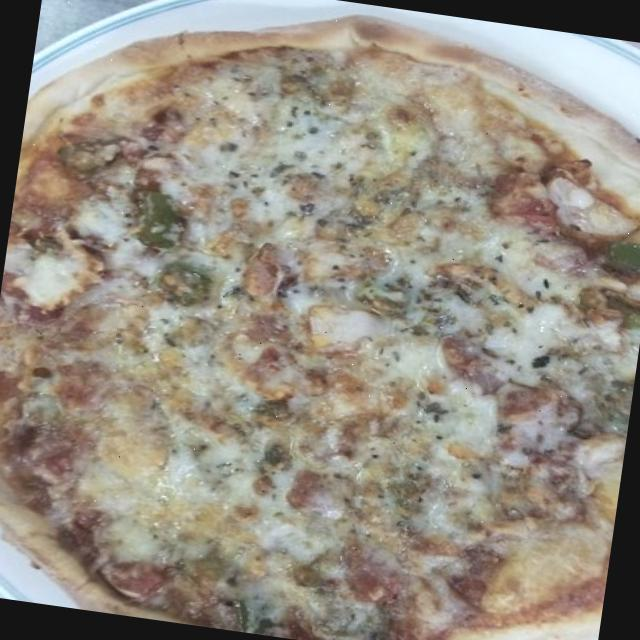Bell Pepper: (350, 286, 455, 345), (122, 174, 194, 256), (316, 596, 396, 640), (148, 260, 217, 309), (223, 597, 290, 636), (600, 224, 640, 280)
pizza: (0, 18, 640, 640)
